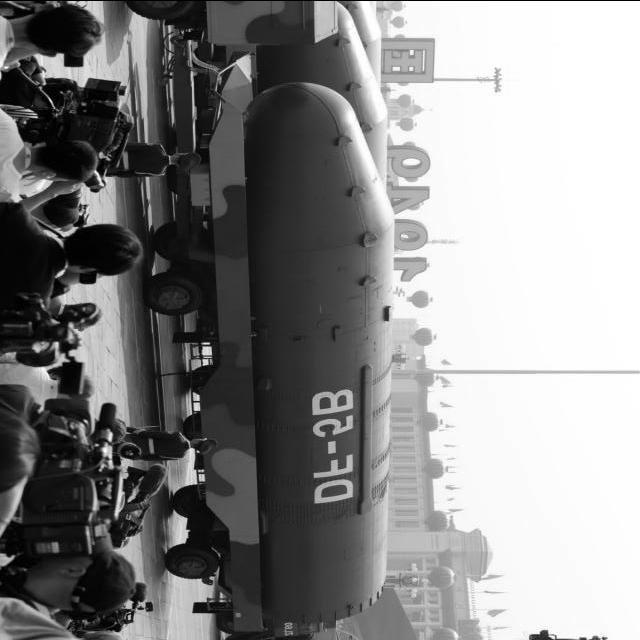missile: (249, 78, 403, 635)
